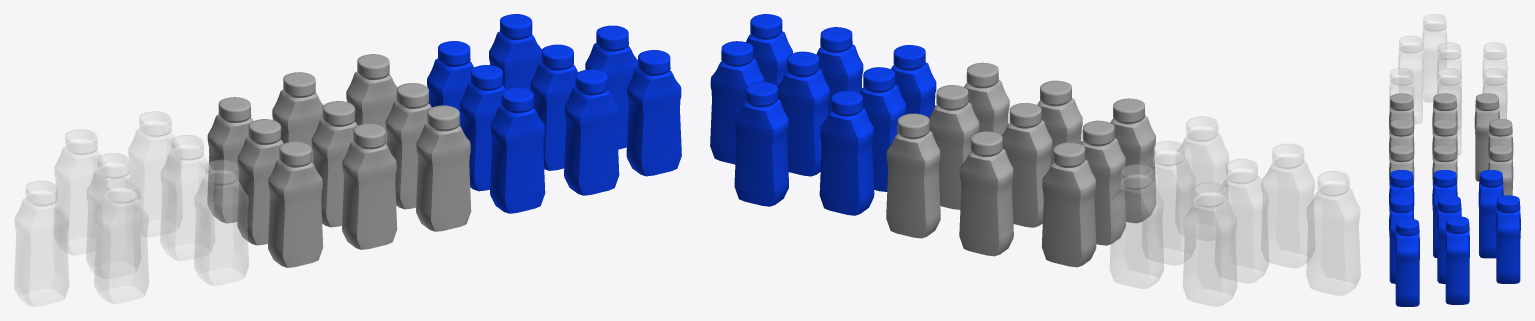
File: Sauce_cfrew8_Pack01.fbx
The picture shows the model from 3 angles, left to right: view 1: azimuth 30°, elevation 25°; view 2: azimuth 150°, elevation 25°; view 3: azimuth 270°, elevation 25°; orthographic projection. The views are drawn at different scales.
Parts seen in each view (by area): view 1: Sauce_cfrew8_Pack01; view 2: Sauce_cfrew8_Pack01; view 3: Sauce_cfrew8_Pack01.
Part boxes in pixels (bbox=[...]): Sauce_cfrew8_Pack01: bbox=[14, 14, 681, 306]; Sauce_cfrew8_Pack01: bbox=[710, 14, 1360, 306]; Sauce_cfrew8_Pack01: bbox=[1389, 14, 1520, 306].
Size of the model in its own units: 86.37 by 14.39 by 21.83.
